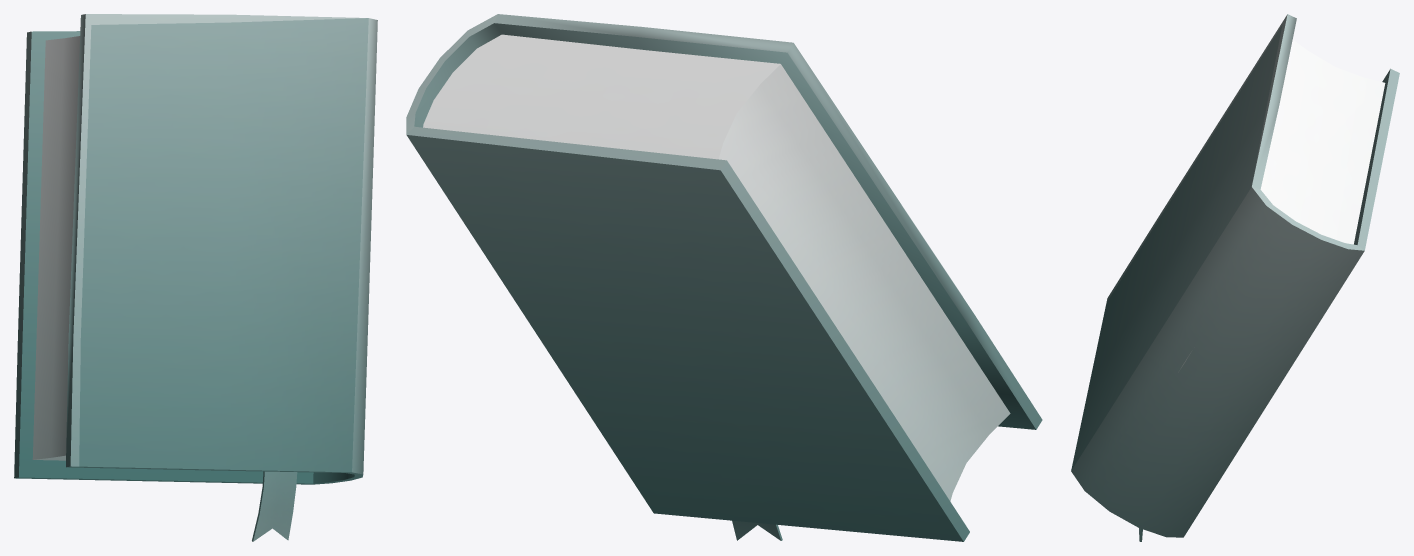
Rendered from Knowledge_Book.fbx.
3 renders of one model, left to right at view 1: azimuth 30°, elevation 25°; view 2: azimuth 150°, elevation 25°; view 3: azimuth 270°, elevation 25°, orthographic. The views are drawn at different scales.
Parts seen in each view (by area): view 1: Knowledge_Book; view 2: Knowledge_Book; view 3: Knowledge_Book.
Part boxes in pixels (<box>): Knowledge_Book: <box>14,14,377,541</box>; Knowledge_Book: <box>406,14,1042,541</box>; Knowledge_Book: <box>1071,14,1399,541</box>.
Size of the model in its own units: 14.79 by 17.5 by 11.08.
